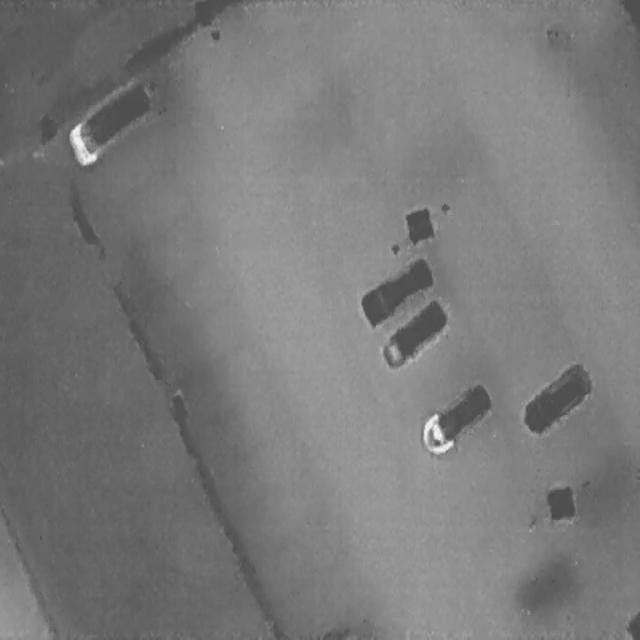Car: (63, 72, 161, 168), (414, 376, 496, 464), (517, 358, 597, 440), (356, 251, 437, 329), (377, 293, 451, 375)
